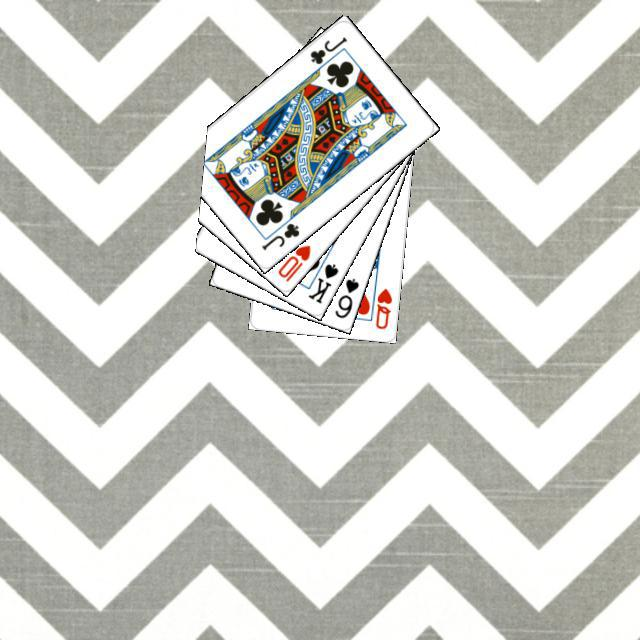10h: (273, 240, 312, 283)
6s: (330, 273, 361, 320)
Jc: (257, 218, 301, 252), (305, 32, 349, 66)
Ks: (303, 259, 340, 305)
Qh: (371, 283, 394, 331)
